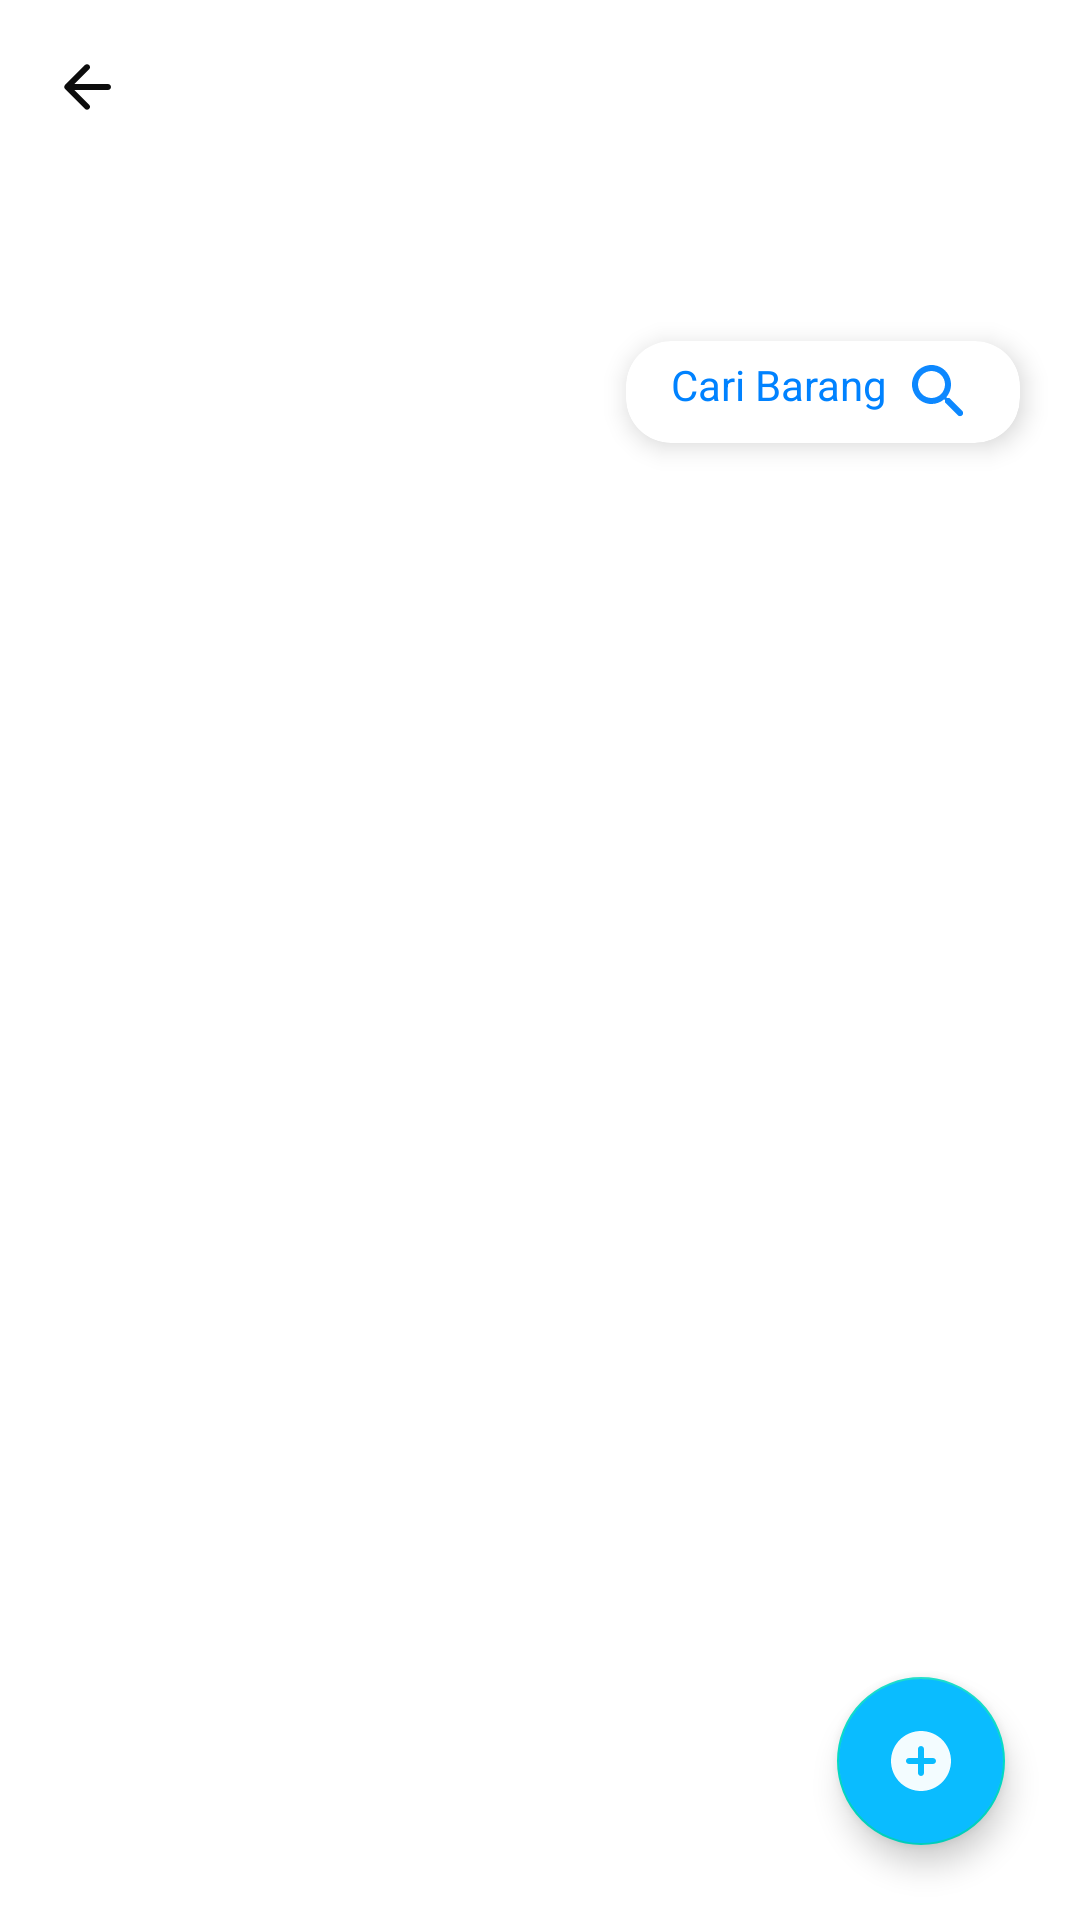

Icon click points for this 1080*1920 phone screenshot, format (x=x, y=y):
add circle: (x=921, y=1761)
back: (x=87, y=87)
search: (x=937, y=390)
